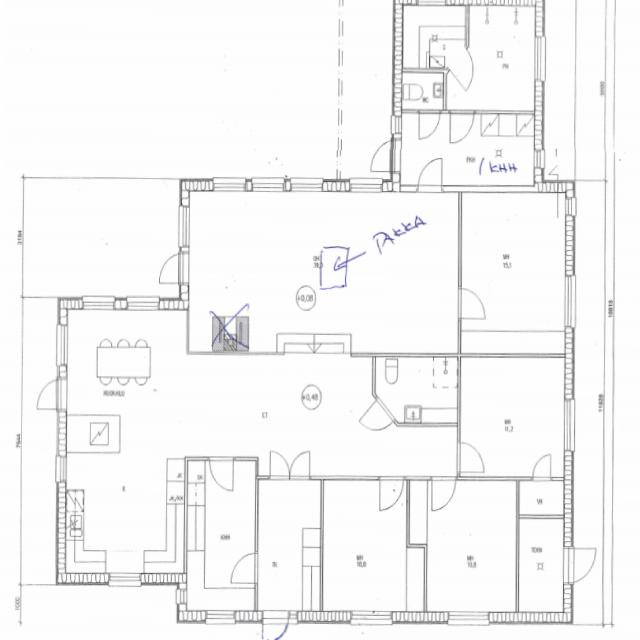door: (447, 45, 482, 91), (360, 396, 394, 441), (563, 548, 600, 581), (366, 140, 400, 171), (156, 253, 188, 283), (33, 379, 65, 408), (209, 456, 233, 491), (418, 155, 441, 191), (379, 476, 403, 510), (231, 552, 258, 582), (458, 442, 485, 472), (432, 476, 455, 510), (458, 288, 484, 318), (450, 110, 473, 143), (418, 110, 439, 140), (270, 451, 290, 480), (289, 451, 309, 480), (533, 454, 551, 480)
